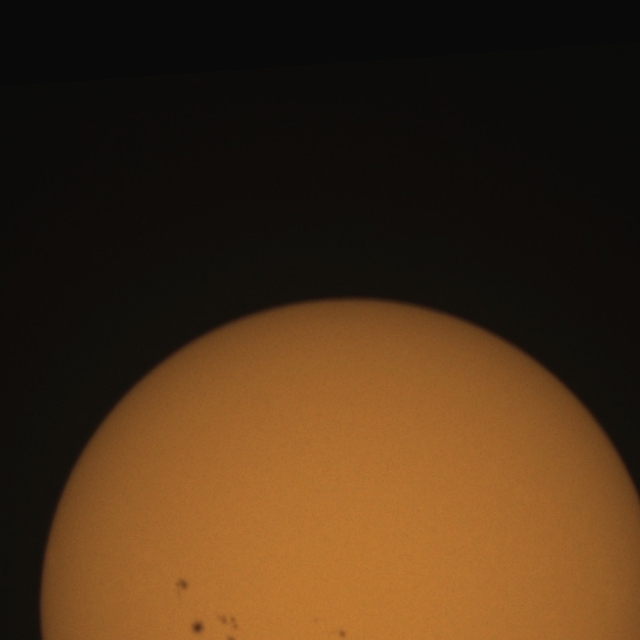sunspot: (189, 612, 242, 639), (216, 613, 239, 633), (190, 619, 206, 637), (175, 577, 190, 594), (337, 628, 348, 640)
